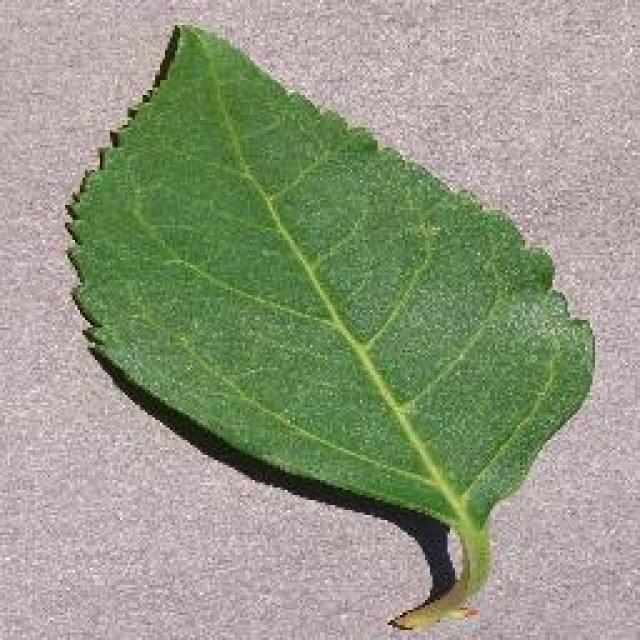Cherry___healthy: (53, 8, 605, 638)
